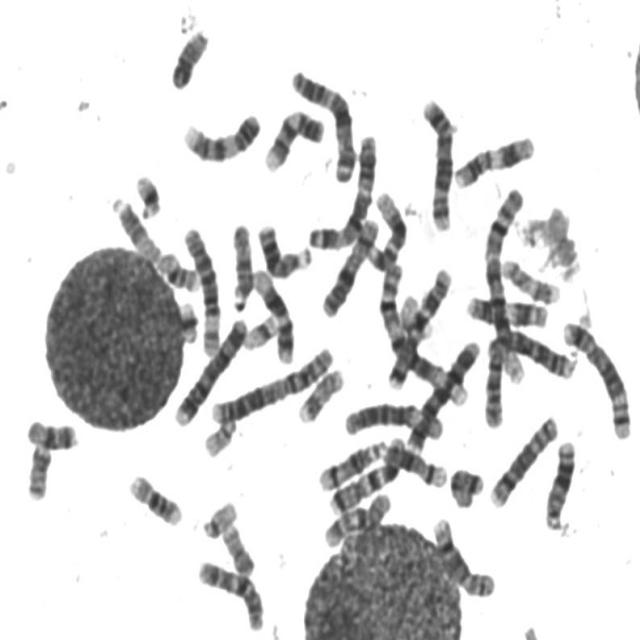A1: (378, 259, 463, 401), (480, 181, 529, 389)
A2: (207, 338, 336, 425), (478, 322, 580, 430)
A3: (303, 125, 381, 252), (287, 62, 358, 184)
B4: (402, 333, 483, 454), (170, 311, 250, 428)
B5: (560, 313, 634, 441), (417, 90, 457, 233)
C10: (193, 552, 268, 634), (320, 486, 394, 551)
C11: (450, 128, 538, 189), (462, 287, 550, 330)
C12: (248, 262, 297, 366), (356, 184, 410, 274)
C6: (179, 219, 224, 357), (340, 394, 447, 442)
C7: (382, 262, 455, 392), (325, 428, 408, 516)
C8: (484, 408, 562, 511), (427, 510, 498, 600)
C9: (178, 104, 264, 165), (259, 101, 327, 173)
D13: (253, 217, 314, 281), (540, 432, 578, 532)
D14: (312, 432, 390, 493), (378, 434, 449, 490)
D15: (108, 189, 164, 264), (227, 216, 256, 312)
E16: (124, 468, 185, 528), (154, 244, 202, 294)
E17: (497, 251, 562, 306), (293, 360, 347, 426)
E18: (23, 412, 80, 452), (446, 462, 487, 509)
F19: (395, 288, 435, 339), (240, 307, 280, 352)
F20: (216, 518, 258, 577), (22, 438, 53, 502)
G21: (131, 167, 164, 220), (175, 294, 202, 344)
G22: (198, 493, 240, 540), (199, 412, 239, 459)
X: (317, 211, 381, 319)
Y: (166, 20, 212, 91)
